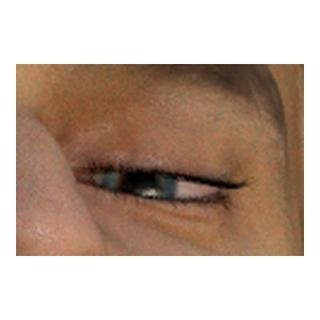pupil: (122, 168, 155, 200)
